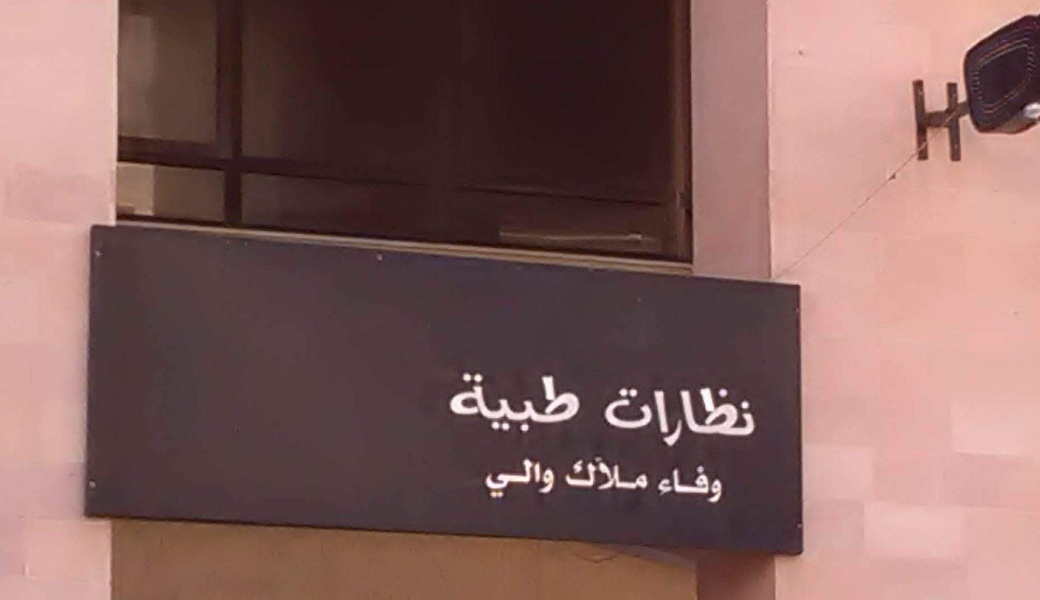text: (609, 386, 624, 449), (625, 386, 640, 449), (641, 386, 656, 449), (657, 386, 672, 449), (673, 386, 688, 449), (689, 386, 704, 449), (705, 386, 720, 449), (721, 386, 736, 449), (737, 386, 752, 449), (465, 372, 480, 432), (481, 372, 496, 432), (497, 372, 512, 432), (513, 372, 528, 432), (529, 372, 544, 432), (545, 372, 560, 432), (561, 372, 576, 432), (450, 372, 464, 432), (497, 458, 512, 499), (513, 458, 528, 499), (529, 458, 544, 499), (657, 467, 672, 506), (673, 467, 688, 506), (689, 467, 704, 506), (705, 467, 720, 506), (561, 455, 576, 492), (577, 455, 592, 492), (593, 455, 608, 492), (609, 455, 624, 492), (625, 455, 640, 492), (484, 458, 496, 499), (545, 458, 555, 499), (641, 455, 648, 492), (577, 372, 581, 432), (753, 386, 756, 449), (721, 467, 725, 506), (606, 386, 608, 449)
